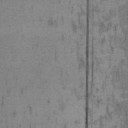surface scratch: (86, 0, 89, 128), (91, 32, 94, 94)
